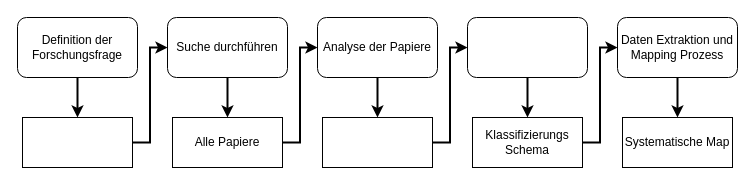
This 755x185 diagram has some shape labels left out. The centre of each missing label's shape, as x and y in pixels:
"Keywording der Abstracts" goes at [527,47].
"Relevante Papiere" goes at [377,142].
"Review Scope" goes at [77,142].
